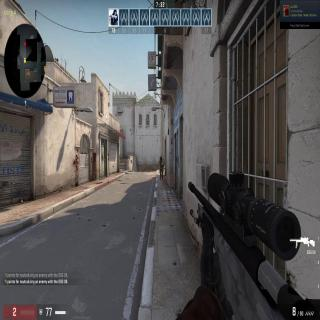CT-Body: (159, 155, 164, 180)
CT-Head: (160, 156, 162, 160)
